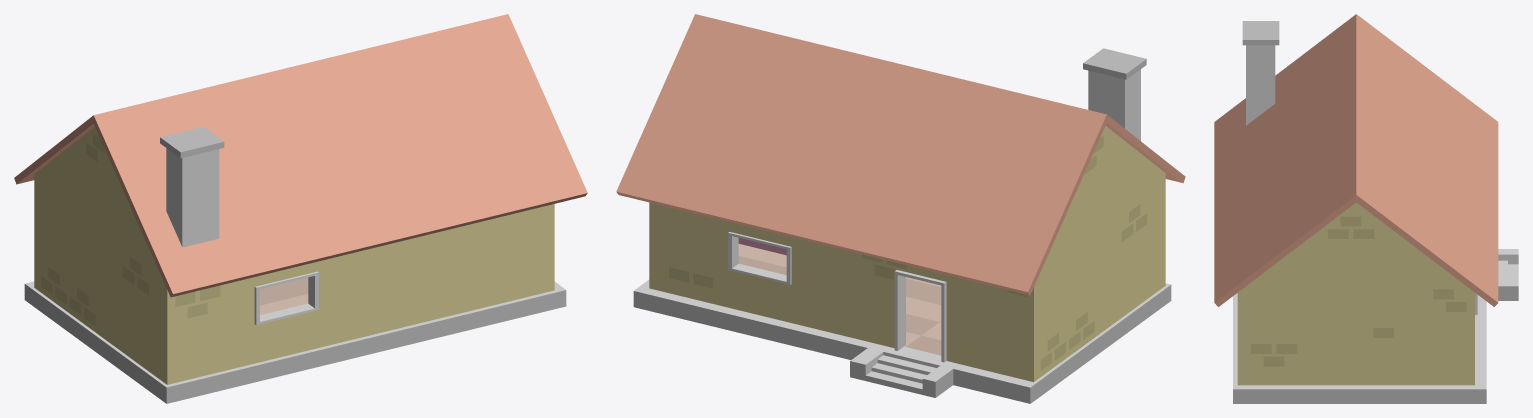
File: HouseFurnished.fbx
3 views of the same model, side by side, from view 1: azimuth 30°, elevation 25°; view 2: azimuth 150°, elevation 25°; view 3: azimuth 270°, elevation 25° (orthographic). The views are drawn at different scales.
Visible parts, largest first — view 1: HouseFurnished; view 2: HouseFurnished; view 3: HouseFurnished.
Part boxes in pixels (left/top/right/bottom): HouseFurnished: left=14, top=14, right=587, bottom=403; HouseFurnished: left=616, top=14, right=1185, bottom=403; HouseFurnished: left=1214, top=14, right=1518, bottom=403.
Size of the model in its own units: 12.16 by 8.64 by 6.81.
